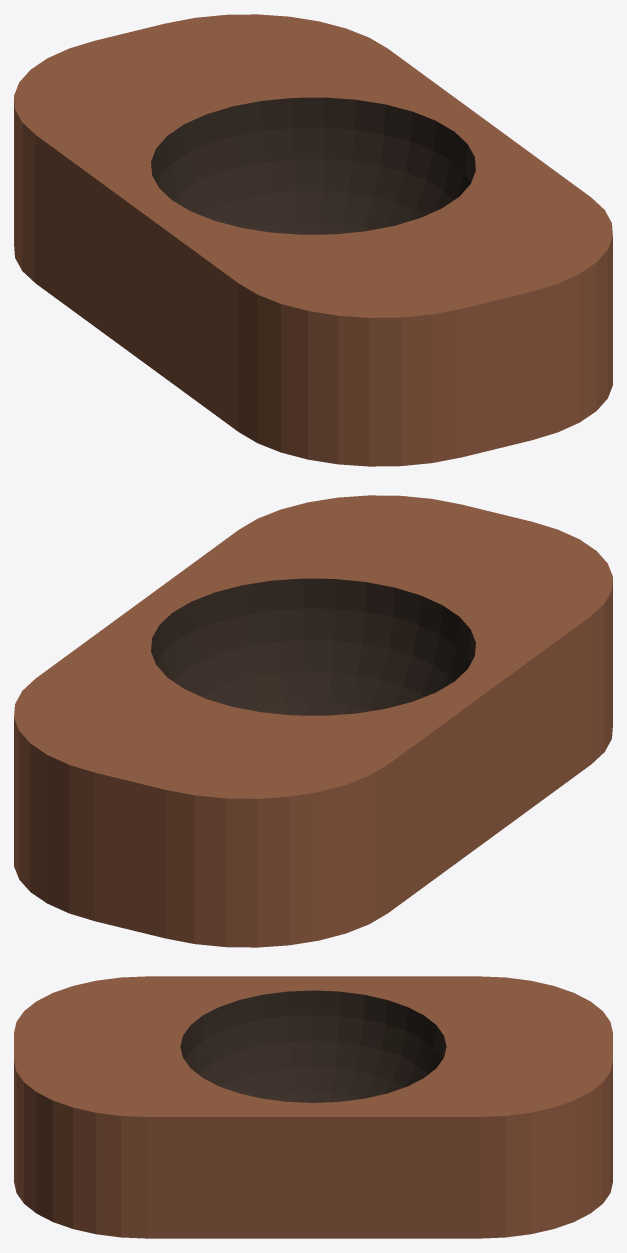
File: Rounded Cannon Ball Holder 1 Ball.fbx
The picture shows the model from 3 angles, top to bottom: view 1: azimuth 30°, elevation 25°; view 2: azimuth 150°, elevation 25°; view 3: azimuth 270°, elevation 25°; orthographic projection. The views are drawn at different scales.
Visible parts, largest first — view 1: Rounded Cannon Ball Holder 1 Ball; view 2: Rounded Cannon Ball Holder 1 Ball; view 3: Rounded Cannon Ball Holder 1 Ball.
Part boxes in pixels (x1,y1,x2,y2): Rounded Cannon Ball Holder 1 Ball: [14, 14, 612, 466]; Rounded Cannon Ball Holder 1 Ball: [14, 495, 612, 947]; Rounded Cannon Ball Holder 1 Ball: [14, 976, 612, 1238].
Size of the model in its own units: 250 by 101 by 450.
